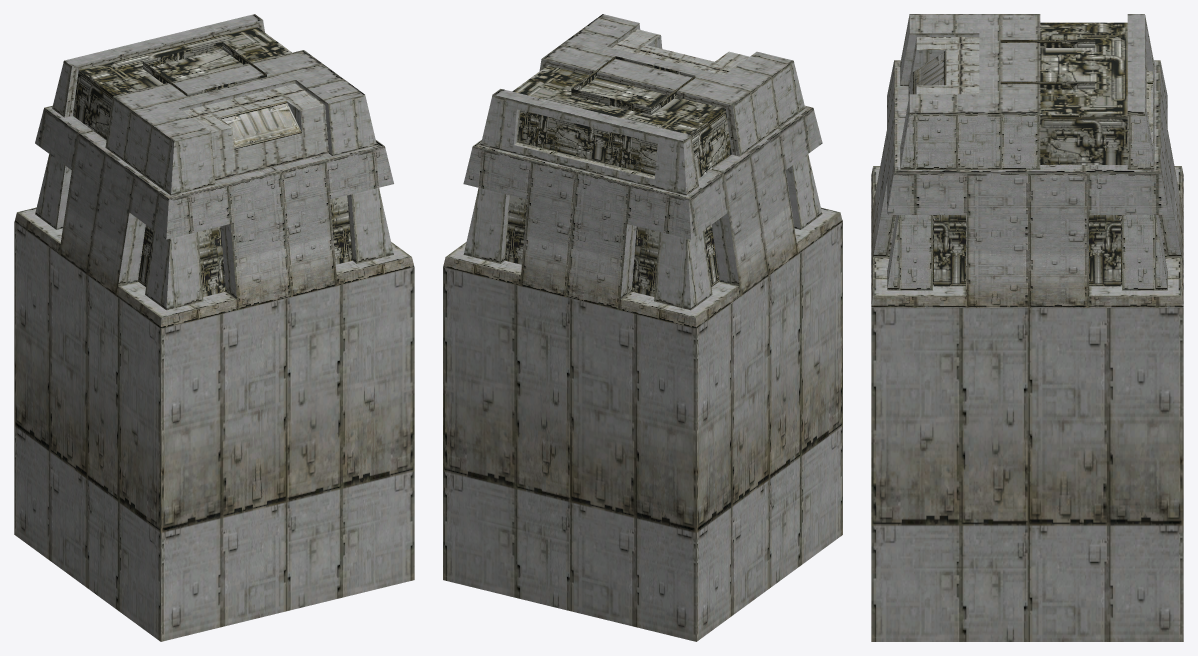
File: ins_all_def_turret_m_s01_l0.fbx
The picture shows the model from 3 angles, left to right: view 1: azimuth 30°, elevation 25°; view 2: azimuth 150°, elevation 25°; view 3: azimuth 270°, elevation 25°; orthographic projection. The views are drawn at different scales.
Parts seen in each view (by area): view 1: mesh_node; view 2: mesh_node; view 3: mesh_node.
Part boxes in pixels (bbox=[...]): mesh_node: bbox=[14, 14, 414, 641]; mesh_node: bbox=[443, 14, 842, 641]; mesh_node: bbox=[871, 14, 1183, 641].
Bounding box in the file's own units: 3.39 × 6.16 × 3.39.
